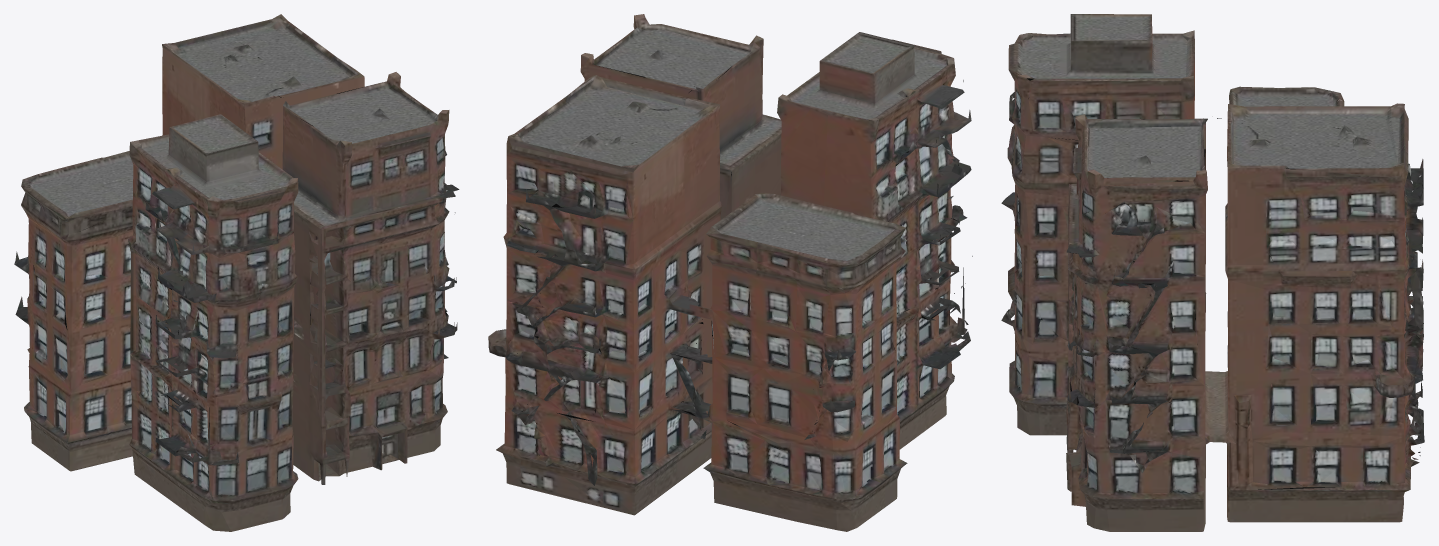
Rendered from tenement-1.glb.
3 views of the same model, side by side, from view 1: azimuth 30°, elevation 25°; view 2: azimuth 150°, elevation 25°; view 3: azimuth 270°, elevation 25° (orthographic). The views are drawn at different scales.
Visible parts, largest first — view 1: Building; view 2: Building; view 3: Building.
Part boxes in pixels (x1=…): Building: x1=14, y1=14, x2=459, y2=531; Building: x1=488, y1=14, x2=972, y2=531; Building: x1=1001, y1=14, x2=1424, y2=531.
Size of the model in its own units: 1.82 by 1.9 by 1.88.
1 material, 1 textured.
